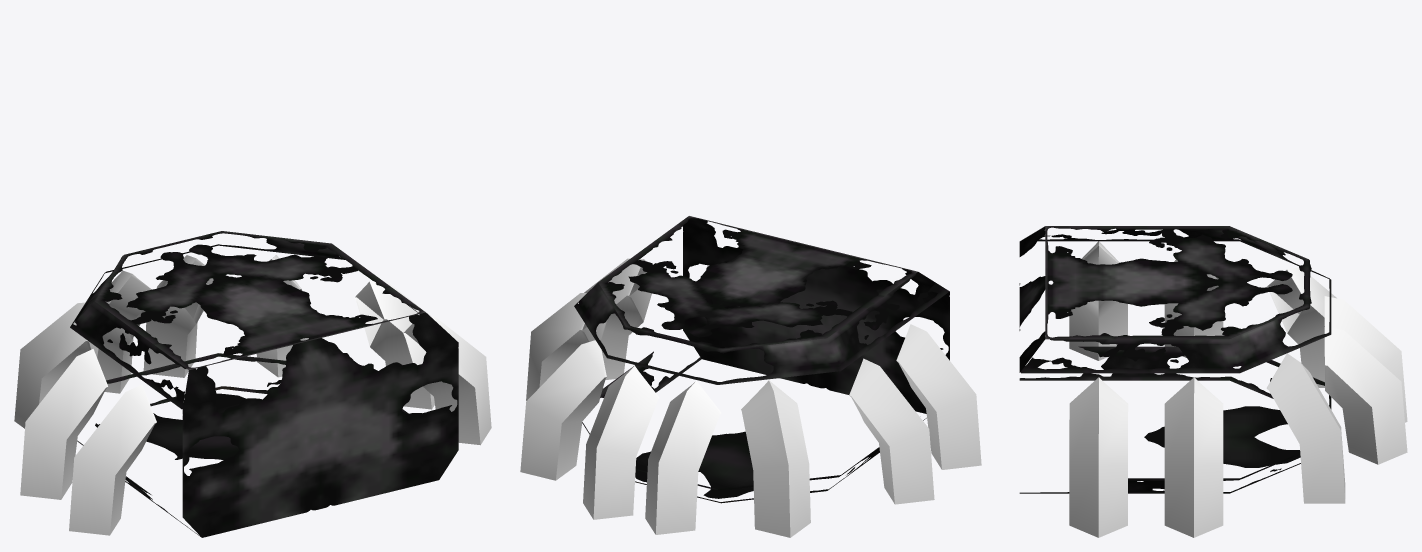
Rendered from pad_spider.dae.
3 renders of one model, left to right at view 1: azimuth 30°, elevation 25°; view 2: azimuth 150°, elevation 25°; view 3: azimuth 270°, elevation 25°, orthographic. The views are drawn at different scales.
Parts seen in each view (by area): view 1: base1; view 2: base1; view 3: base1.
Part boxes in pixels (x1,y1,x2,y2): base1: [14, 231, 491, 537]; base1: [520, 216, 981, 537]; base1: [1019, 226, 1407, 537].
Size of the model in its own units: 59.15 by 49.22 by 57.36.
